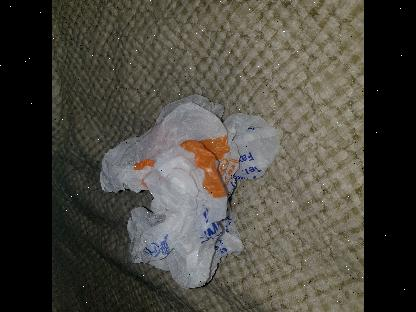Others: (98, 91, 284, 286)
